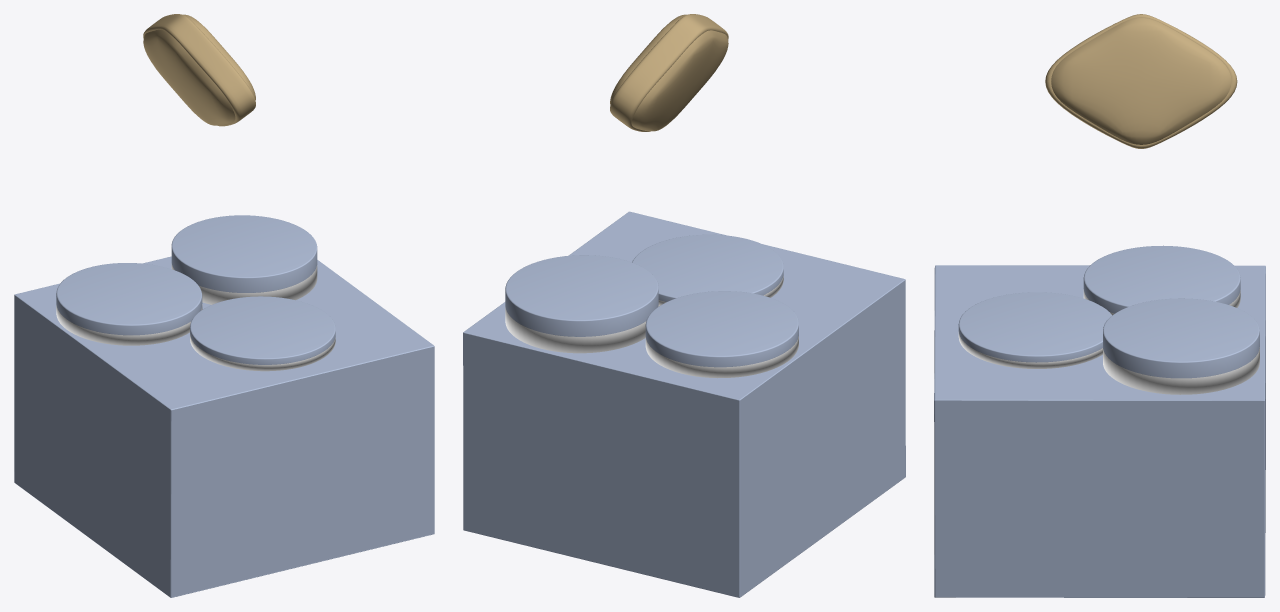
The model's file is forxiga_final.glb.
3 views of the same model, side by side, from view 1: azimuth 30°, elevation 25°; view 2: azimuth 150°, elevation 25°; view 3: azimuth 270°, elevation 25° (orthographic). The views are drawn at different scales.
Visible parts, largest first — view 1: Platform, Forxiga.001; view 2: Platform, Forxiga.001; view 3: Platform, Forxiga.001.
Boxes of the visible parts, bbox=[...] form: Platform: bbox=[14, 215, 434, 597]; Forxiga.001: bbox=[143, 14, 255, 126]; Platform: bbox=[463, 211, 905, 597]; Forxiga.001: bbox=[610, 14, 728, 131]; Platform: bbox=[934, 245, 1265, 597]; Forxiga.001: bbox=[1045, 14, 1237, 148].
Size of the model in its own units: 0.7515 by 1.31 by 0.7774.
Materials: 3 (3 with a texture image).
